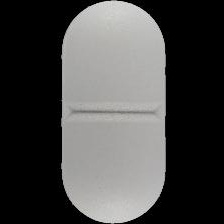43598-221: (0, 0, 224, 224)
